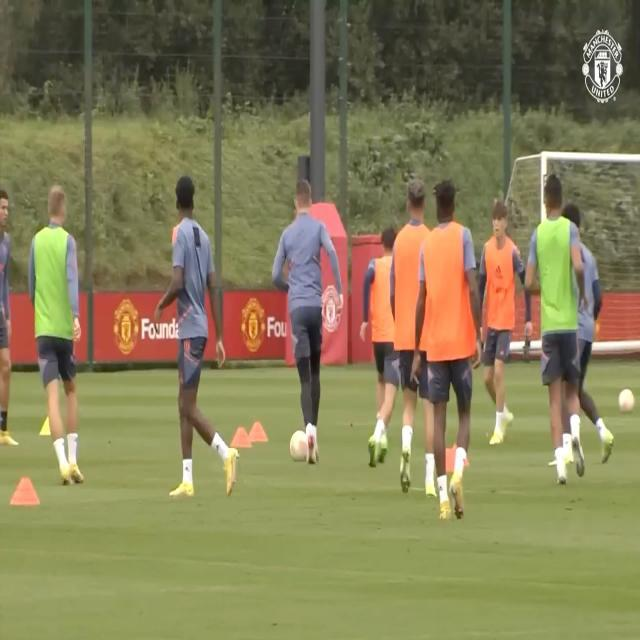Adidas: (493, 262, 504, 280)
